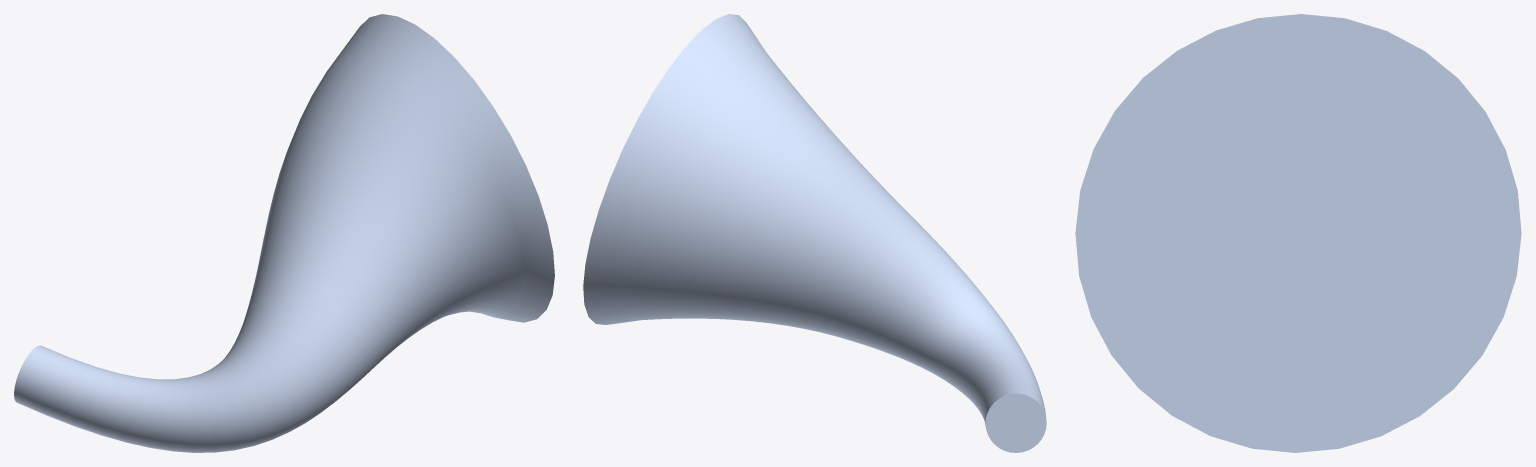
File: ear_tube.fbx
The picture shows the model from 3 angles, left to right: view 1: azimuth 30°, elevation 25°; view 2: azimuth 150°, elevation 25°; view 3: azimuth 270°, elevation 25°; orthographic projection. The views are drawn at different scales.
Parts seen in each view (by area): view 1: sampled_tube; view 2: sampled_tube; view 3: sampled_tube.
Part boxes in pixels (left/top/right/bottom): sampled_tube: left=14, top=14, right=554, bottom=452; sampled_tube: left=583, top=14, right=1046, bottom=452; sampled_tube: left=1075, top=14, right=1521, bottom=452.
Size of the model in its own units: 0.1481 by 0.0984 by 0.1064.
